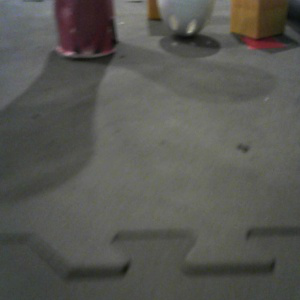right: (55, 1, 118, 61)
